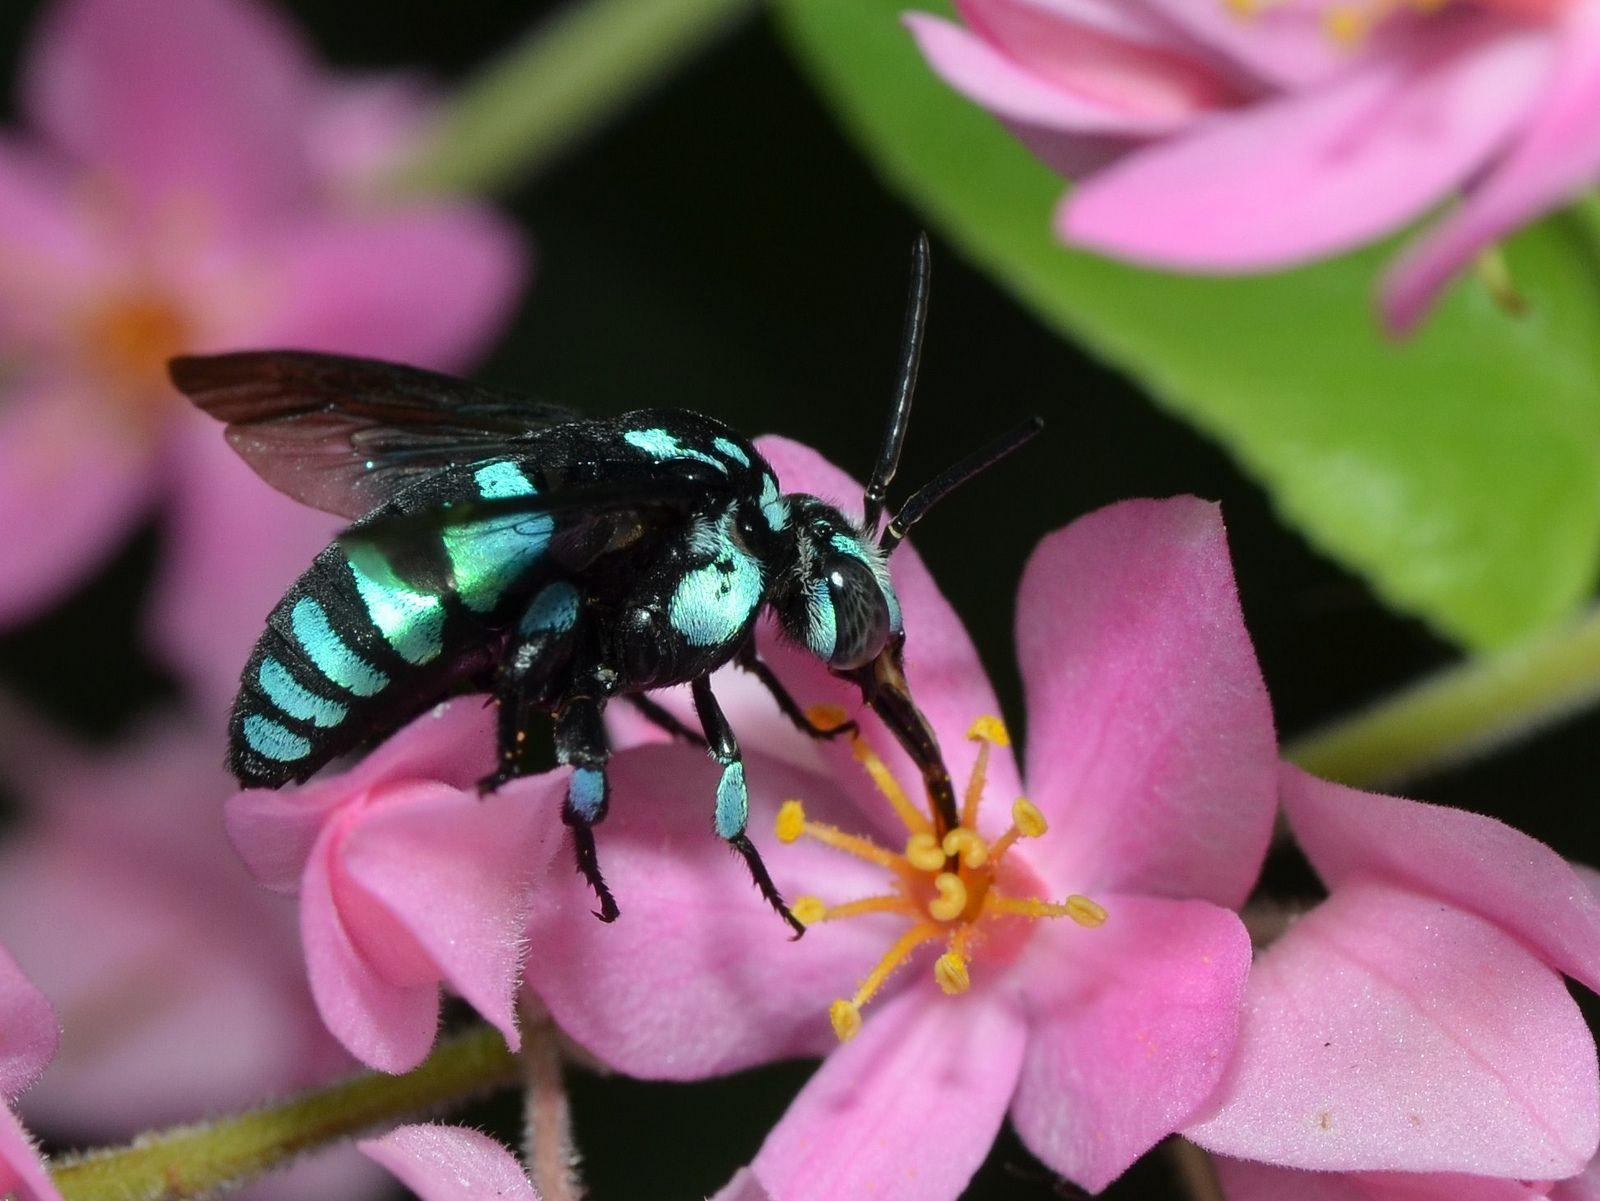Thyreus: (170, 220, 1006, 985)
